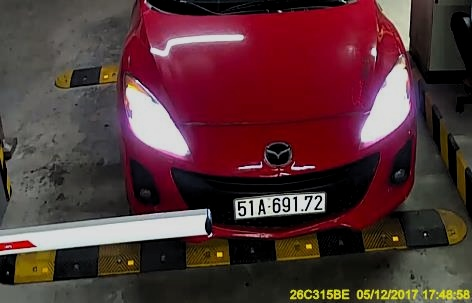plate: (231, 192, 327, 219)
